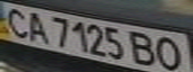1: (66, 19, 87, 52)
2: (84, 21, 106, 57)
5: (103, 25, 130, 62)
7: (45, 15, 72, 48)
A: (21, 9, 51, 44)
B: (127, 29, 160, 68)
C: (0, 4, 33, 38)
O: (151, 34, 190, 72)
